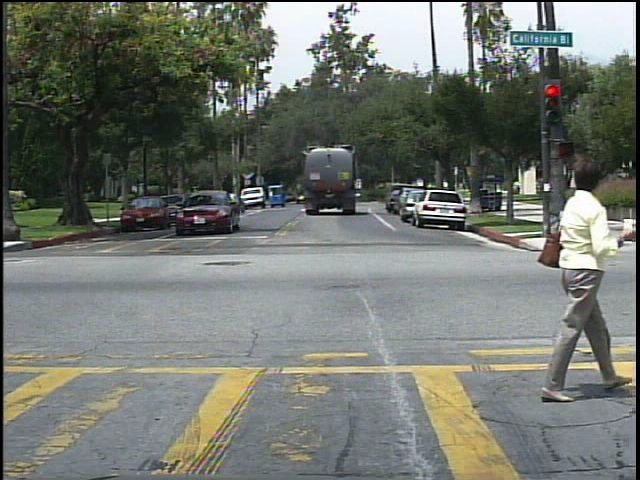person: (509, 135, 629, 408), (512, 180, 526, 199)
